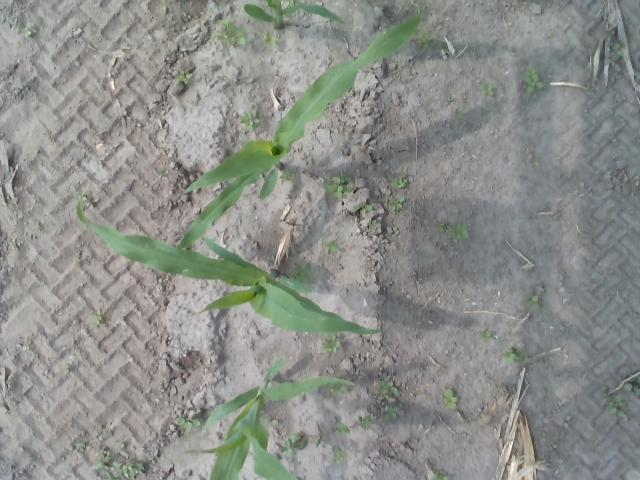Maize: (179, 16, 421, 249), (74, 193, 380, 336), (184, 359, 355, 480), (244, 0, 344, 31)
Weeds: (214, 20, 244, 46), (282, 432, 308, 457), (289, 265, 313, 289), (374, 379, 397, 400), (328, 176, 350, 196), (524, 72, 541, 94), (174, 418, 200, 432), (240, 110, 257, 131), (322, 333, 340, 352), (123, 462, 144, 478), (388, 194, 407, 210), (97, 450, 111, 470), (443, 389, 457, 408), (452, 224, 468, 240), (383, 406, 403, 418), (176, 69, 191, 84), (334, 444, 344, 464), (528, 294, 540, 310), (503, 348, 517, 361), (266, 31, 276, 48), (22, 23, 34, 36), (111, 462, 122, 476), (75, 438, 86, 452), (316, 422, 322, 447), (614, 42, 624, 56), (338, 426, 352, 436), (324, 242, 336, 253), (484, 82, 494, 95), (480, 330, 493, 340), (452, 108, 463, 119), (416, 34, 426, 46), (66, 362, 75, 374), (93, 312, 102, 324), (360, 417, 372, 426), (280, 174, 292, 182), (398, 178, 407, 188), (434, 474, 448, 480), (116, 442, 124, 451), (361, 205, 372, 211), (440, 222, 444, 232)
